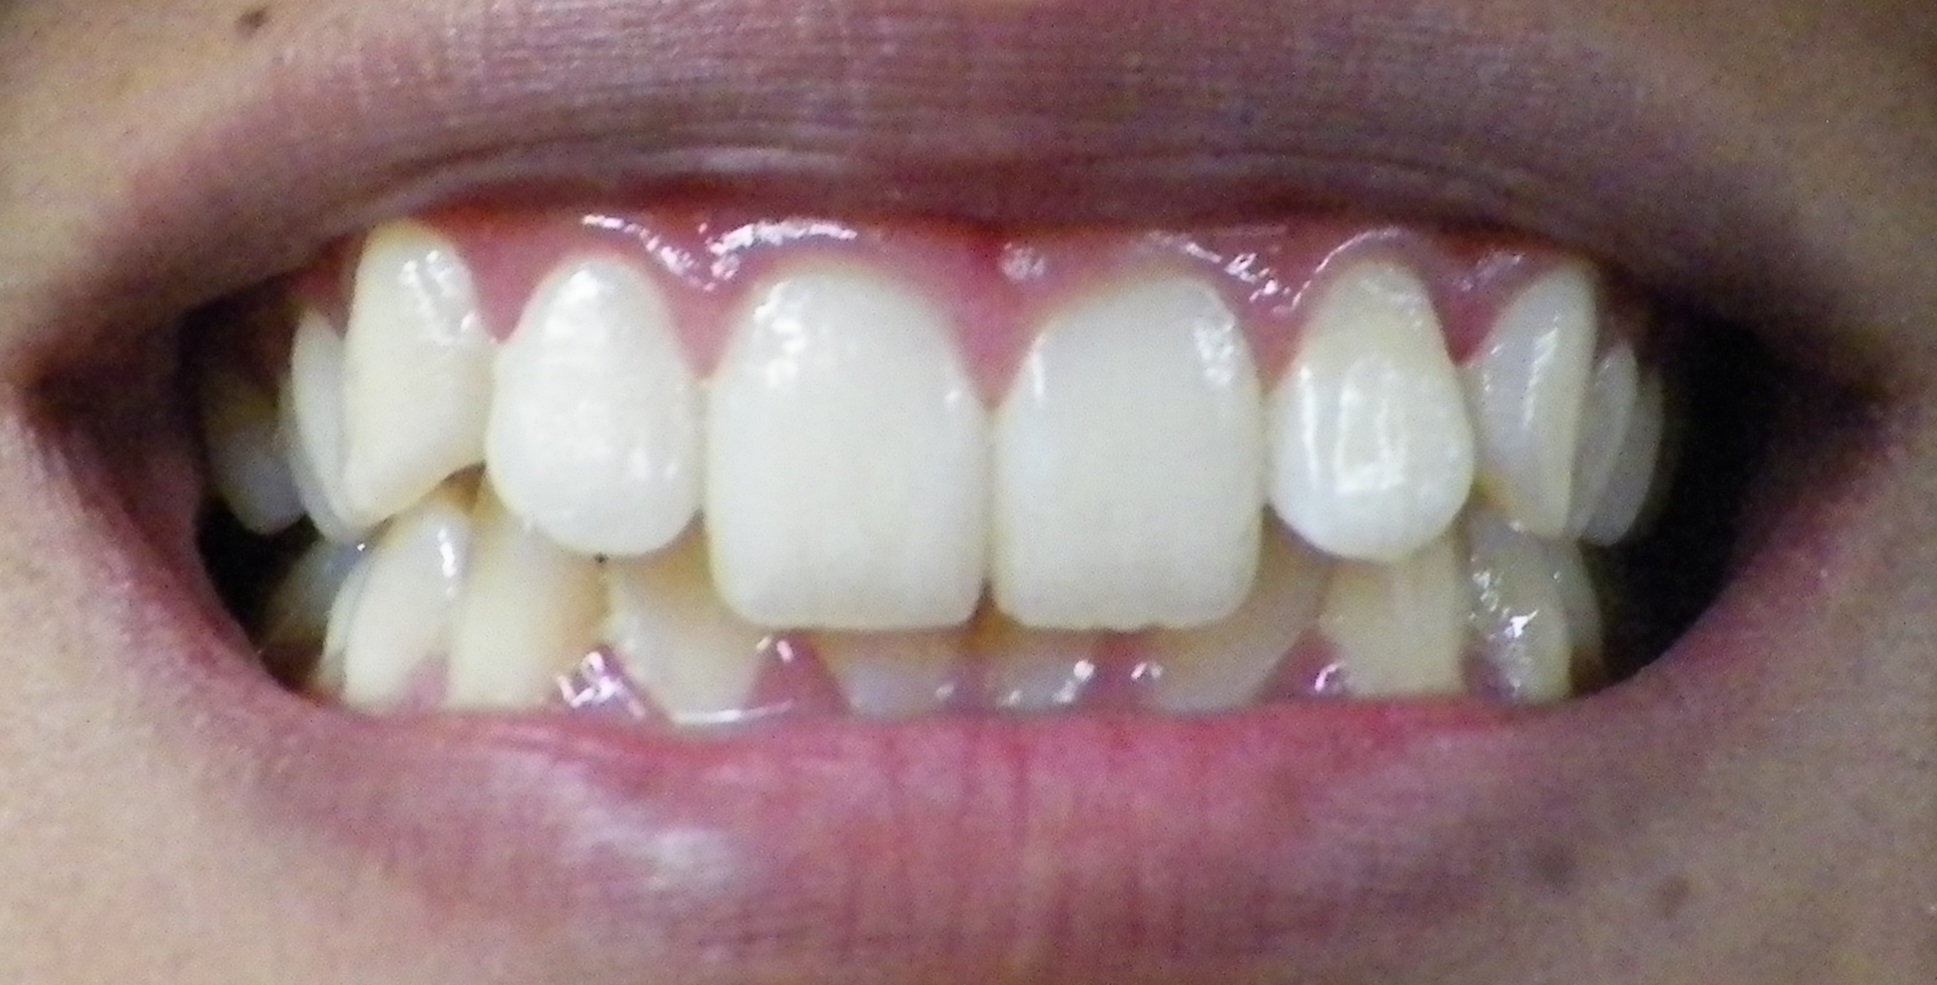boca: (219, 235, 1706, 745)
